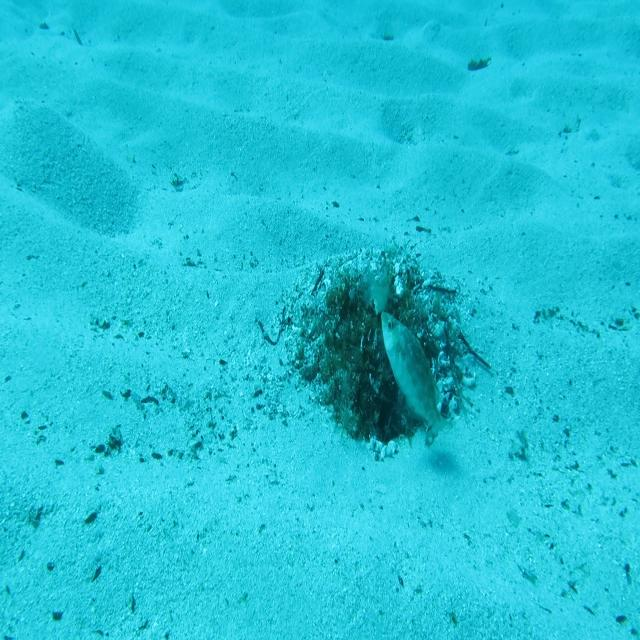GB: (378, 309, 454, 449)
core_nest: (352, 296, 403, 348)
female: (359, 256, 393, 318)
nest: (267, 224, 483, 477)
vegetation: (466, 54, 492, 74)
